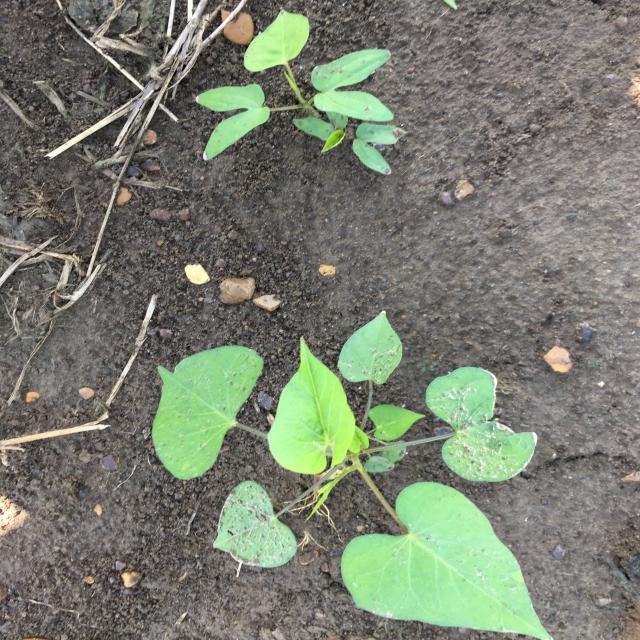MorningGlory: (152, 311, 553, 639), (196, 9, 406, 175)
